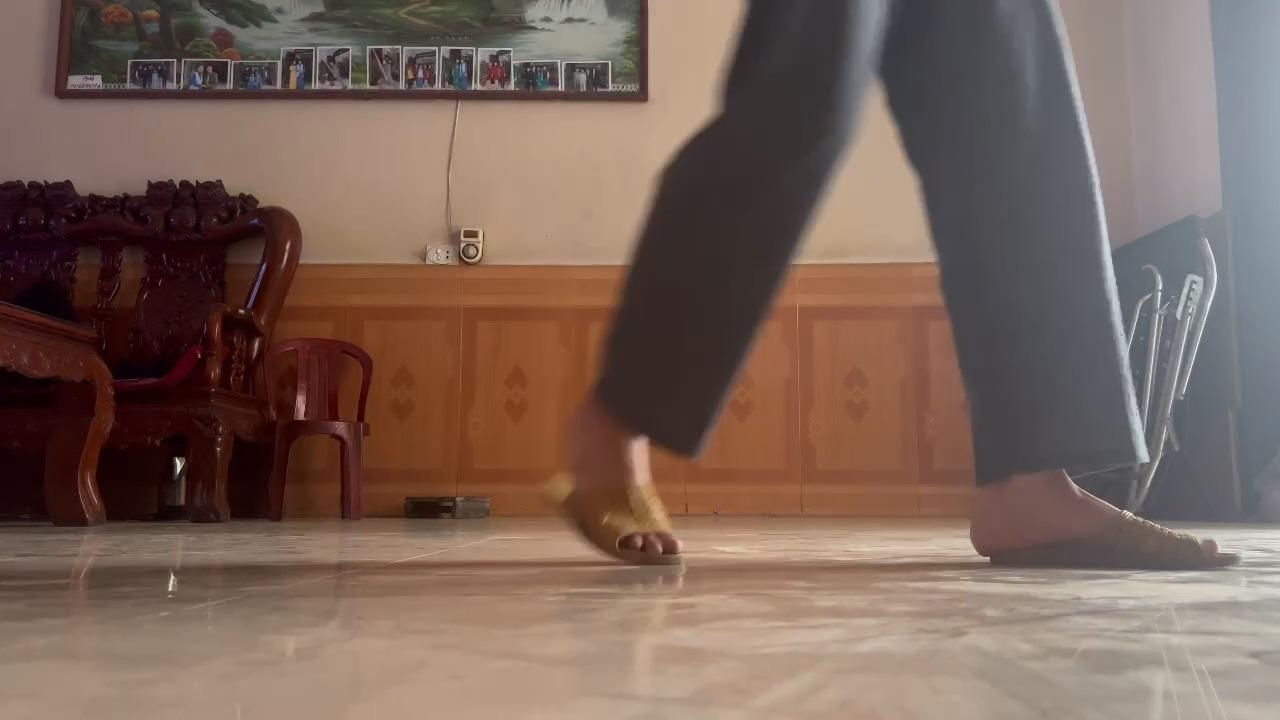no-boot: (542, 416, 698, 576), (963, 492, 1243, 574)
